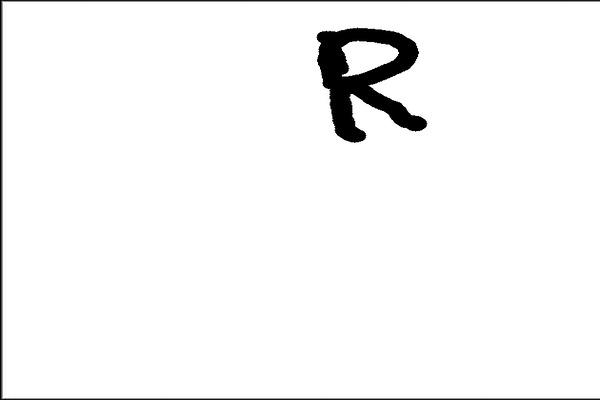R: (308, 23, 433, 143)
